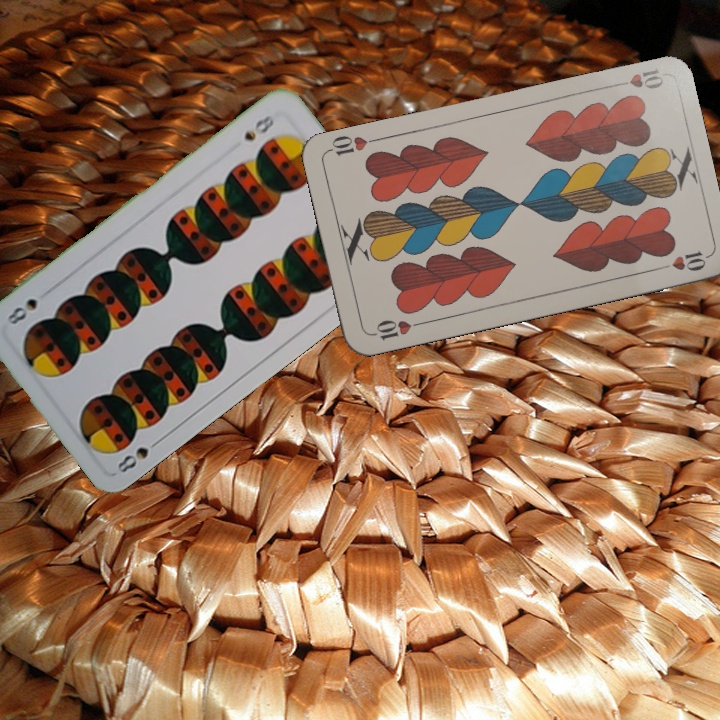H10: (367, 315, 425, 343), (608, 64, 666, 92)
S8: (112, 434, 165, 476), (240, 111, 277, 144)
